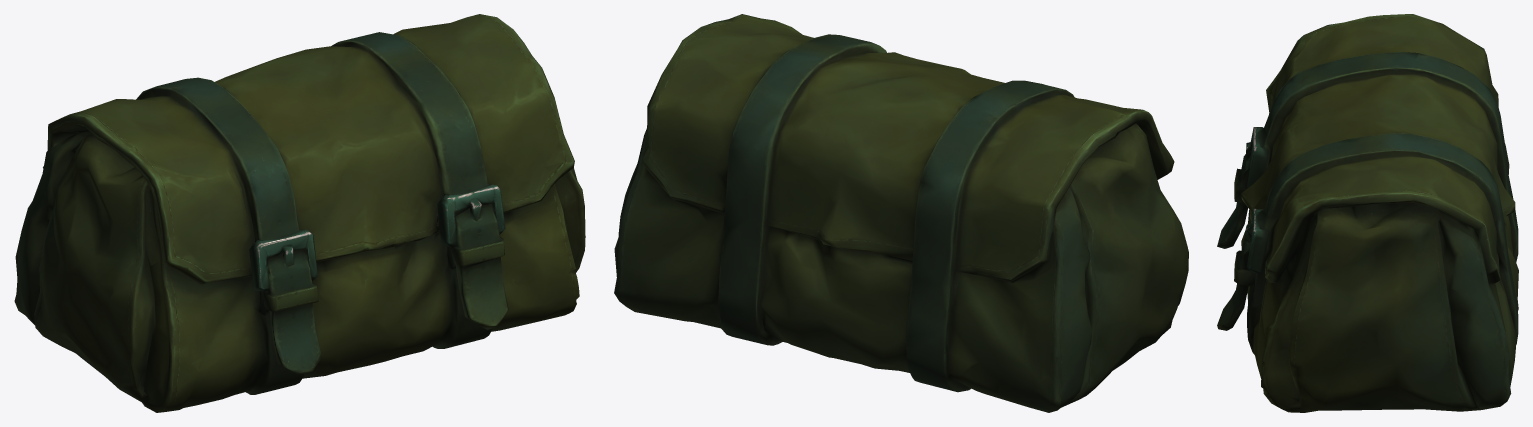
Rendered from vestibule-olive-satchel.glb.
3 views of the same model, side by side, from view 1: azimuth 30°, elevation 25°; view 2: azimuth 150°, elevation 25°; view 3: azimuth 270°, elevation 25° (orthographic). The views are drawn at different scales.
Parts seen in each view (by area): view 1: tripo_node_0a0e2a88-26eb-4c51-b53b-a18cfce1279d; view 2: tripo_node_0a0e2a88-26eb-4c51-b53b-a18cfce1279d; view 3: tripo_node_0a0e2a88-26eb-4c51-b53b-a18cfce1279d.
Part boxes in pixels (<box>): tripo_node_0a0e2a88-26eb-4c51-b53b-a18cfce1279d: <box>14,14,585,412</box>; tripo_node_0a0e2a88-26eb-4c51-b53b-a18cfce1279d: <box>614,14,1188,412</box>; tripo_node_0a0e2a88-26eb-4c51-b53b-a18cfce1279d: <box>1217,14,1518,412</box>.
Size of the model in its own units: 0.6 by 0.3025 by 0.3643.
Materials: 1 (1 with a texture image).
